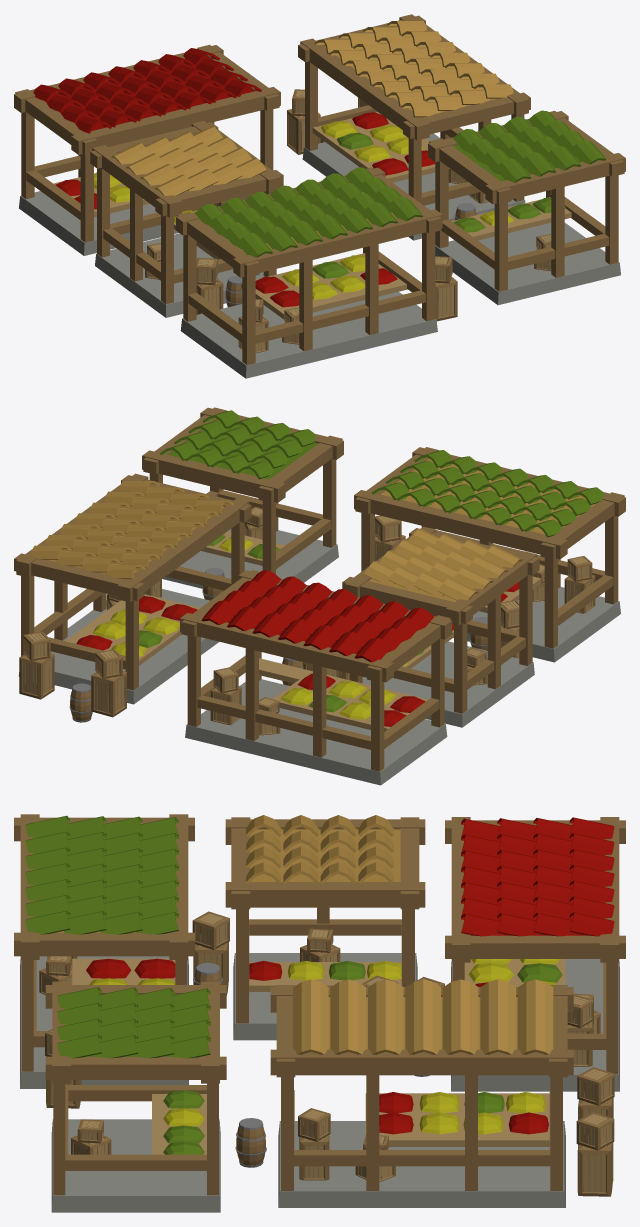
The model's file is Market Stalls Compact.glb.
The picture shows the model from 3 angles, top to bottom: view 1: azimuth 30°, elevation 25°; view 2: azimuth 150°, elevation 25°; view 3: azimuth 270°, elevation 25°; orthographic projection. The views are drawn at different scales.
Visible parts, largest first — view 1: Market Stalls Compact; view 2: Market Stalls Compact; view 3: Market Stalls Compact.
Part boxes in pixels (x1,y1,x2,y2): Market Stalls Compact: (14,14,625,378); Market Stalls Compact: (14,407,625,785); Market Stalls Compact: (14,814,625,1212).
Bounding box in the file's own units: 1.93 × 0.6571 × 1.99.
